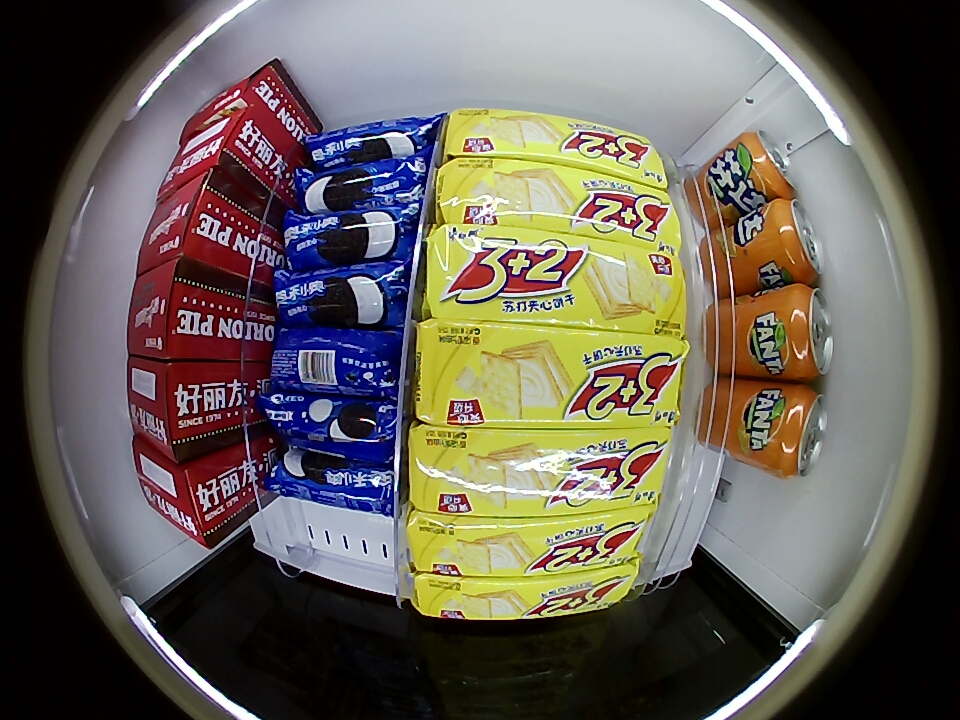3+2-2: (414, 323, 686, 428), (428, 229, 685, 327), (409, 427, 673, 515), (440, 160, 678, 245), (408, 510, 655, 576), (447, 108, 665, 182), (413, 566, 642, 621)
aoliao: (262, 388, 400, 462), (269, 325, 401, 396), (267, 449, 397, 519), (274, 262, 405, 327), (281, 208, 411, 270), (293, 158, 428, 210), (310, 116, 436, 170)
fenda: (770, 385, 827, 479), (780, 284, 834, 379), (768, 198, 824, 284), (742, 130, 798, 199)
haoliyou: (133, 439, 232, 549), (138, 173, 244, 274), (158, 110, 268, 195), (181, 61, 295, 141), (128, 259, 219, 359), (128, 359, 203, 457)
